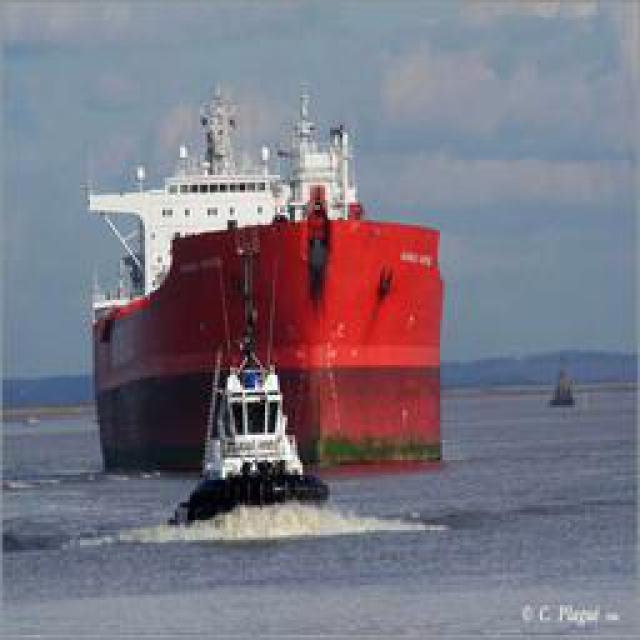Ship: (80, 73, 454, 486), (157, 359, 343, 536)
